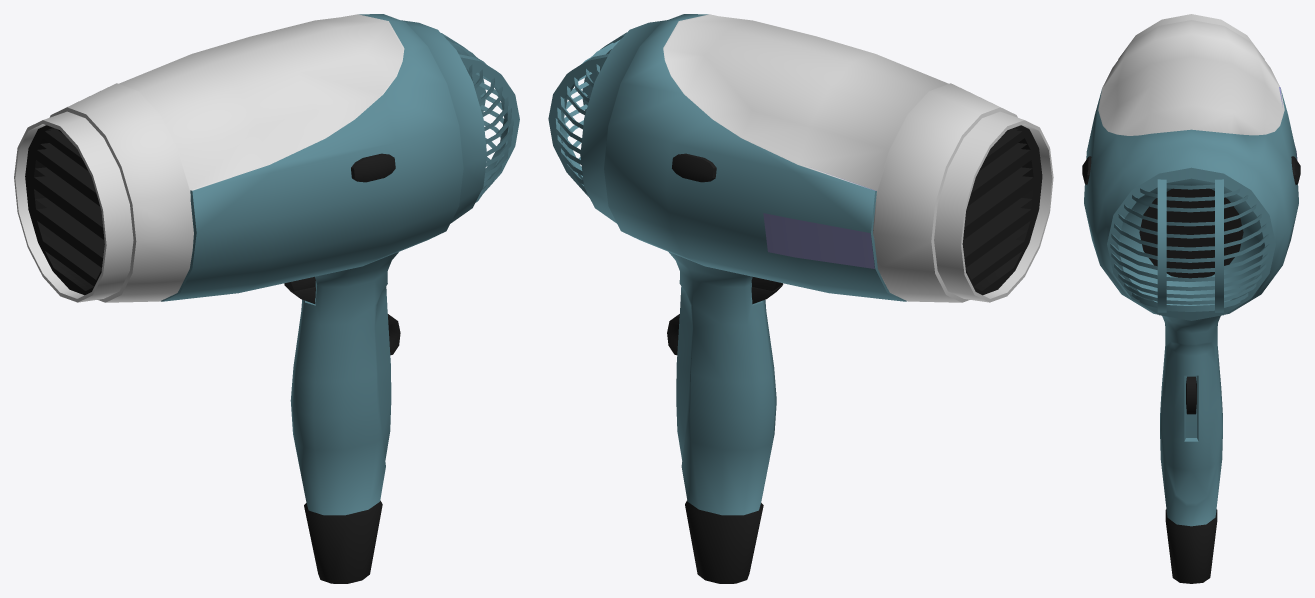
The model's file is RCY120A.FBX.
3 views of the same model, side by side, from view 1: azimuth 30°, elevation 25°; view 2: azimuth 150°, elevation 25°; view 3: azimuth 270°, elevation 25° (orthographic). The views are drawn at different scales.
Visible parts, largest first — view 1: RCY120A; view 2: RCY120A; view 3: RCY120A.
Boxes of the visible parts, bbox=[...] form: RCY120A: bbox=[14, 14, 519, 583]; RCY120A: bbox=[548, 14, 1053, 583]; RCY120A: bbox=[1082, 14, 1300, 583].
Bounding box in the file's own units: 19.95 × 10.02 × 23.64.
